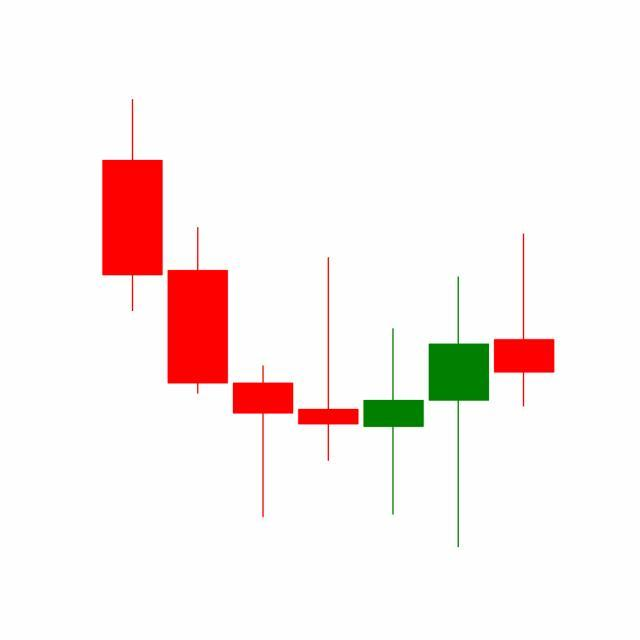Three Outside Up-Down: (295, 253, 492, 548)
